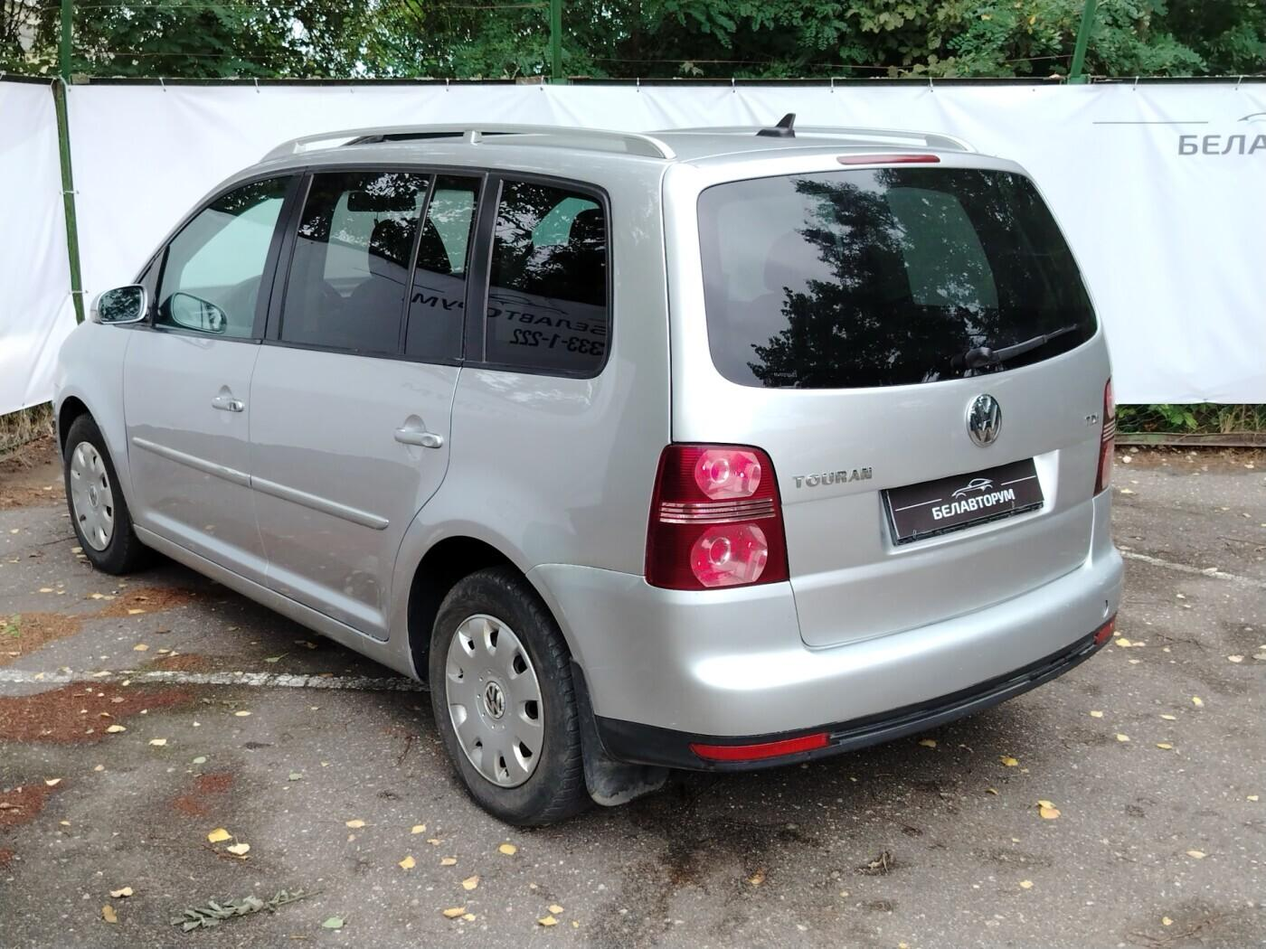Touran_2006-2010: (49, 119, 1128, 825)
